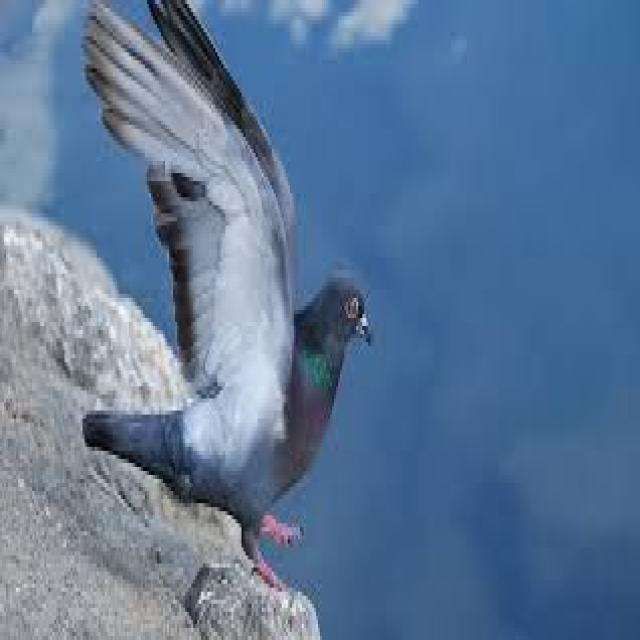pigeon: (61, 0, 381, 567)
